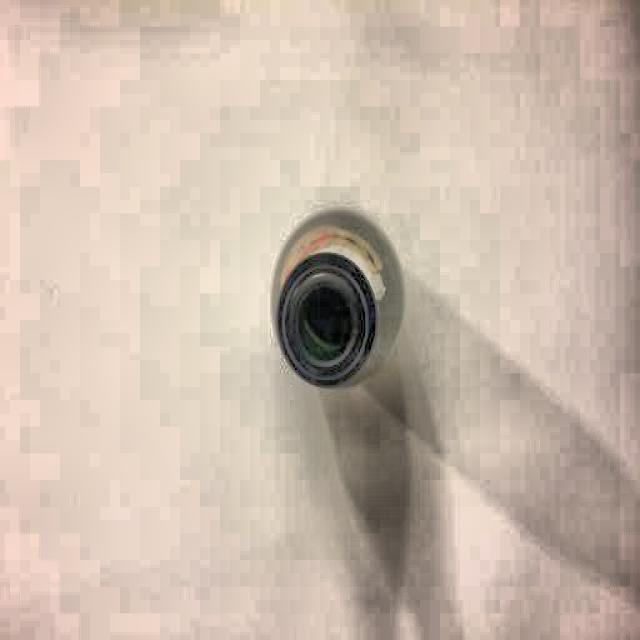glass: (269, 204, 407, 389)
